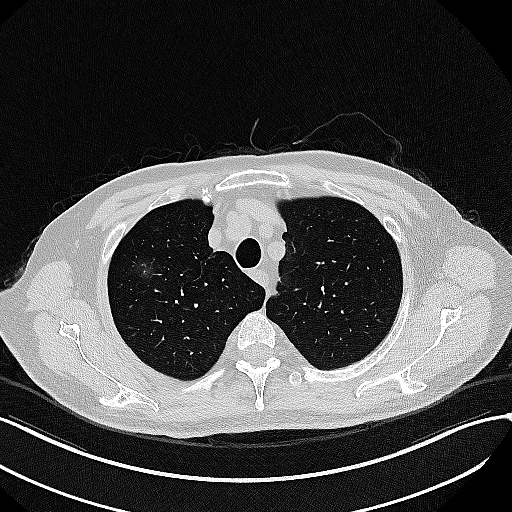nodule: (137, 261, 153, 275)
